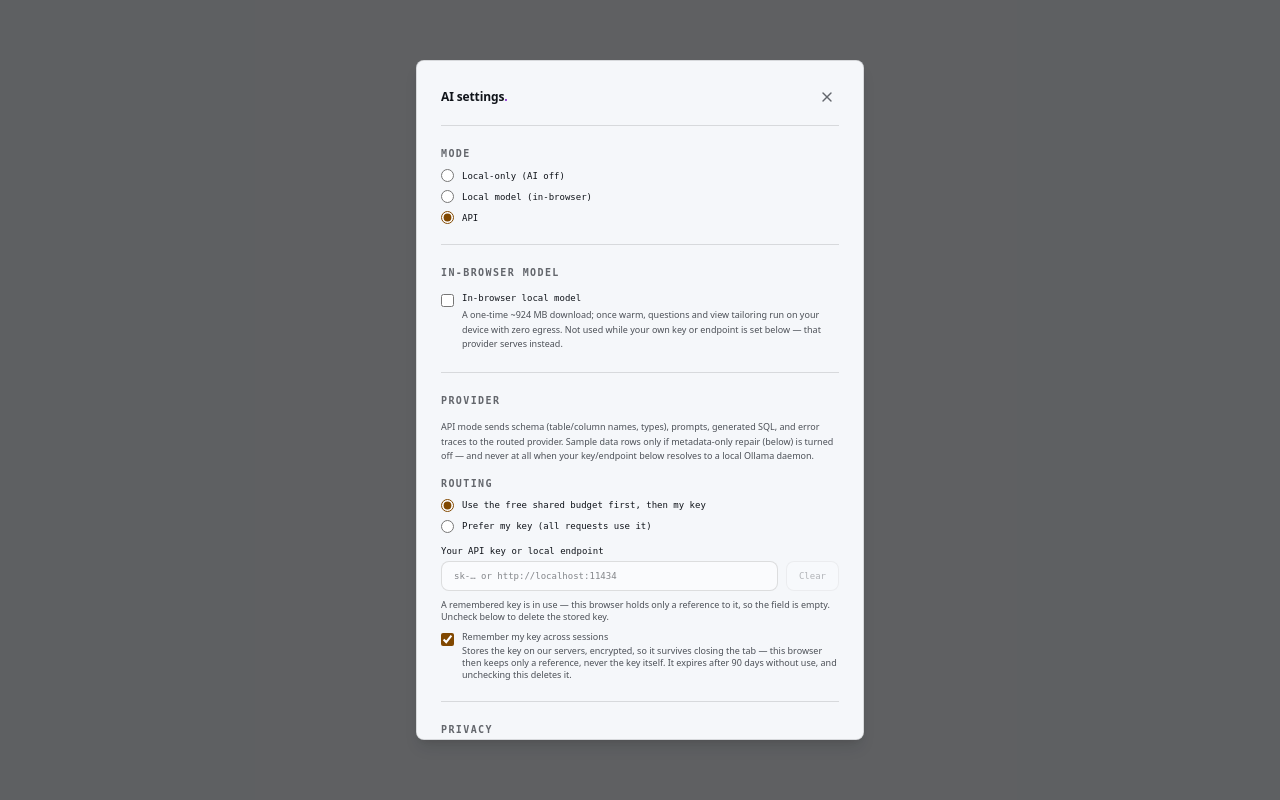
it: AISettingsPanel — "Remember my key" (D9 opt-in vault, 09-edge/03) › a failed delete keeps the reference and says the key is still stored
Step 1. Click the checkbox labelled "Remember my key across sessions" → (448, 639), box [441,633,454,646]
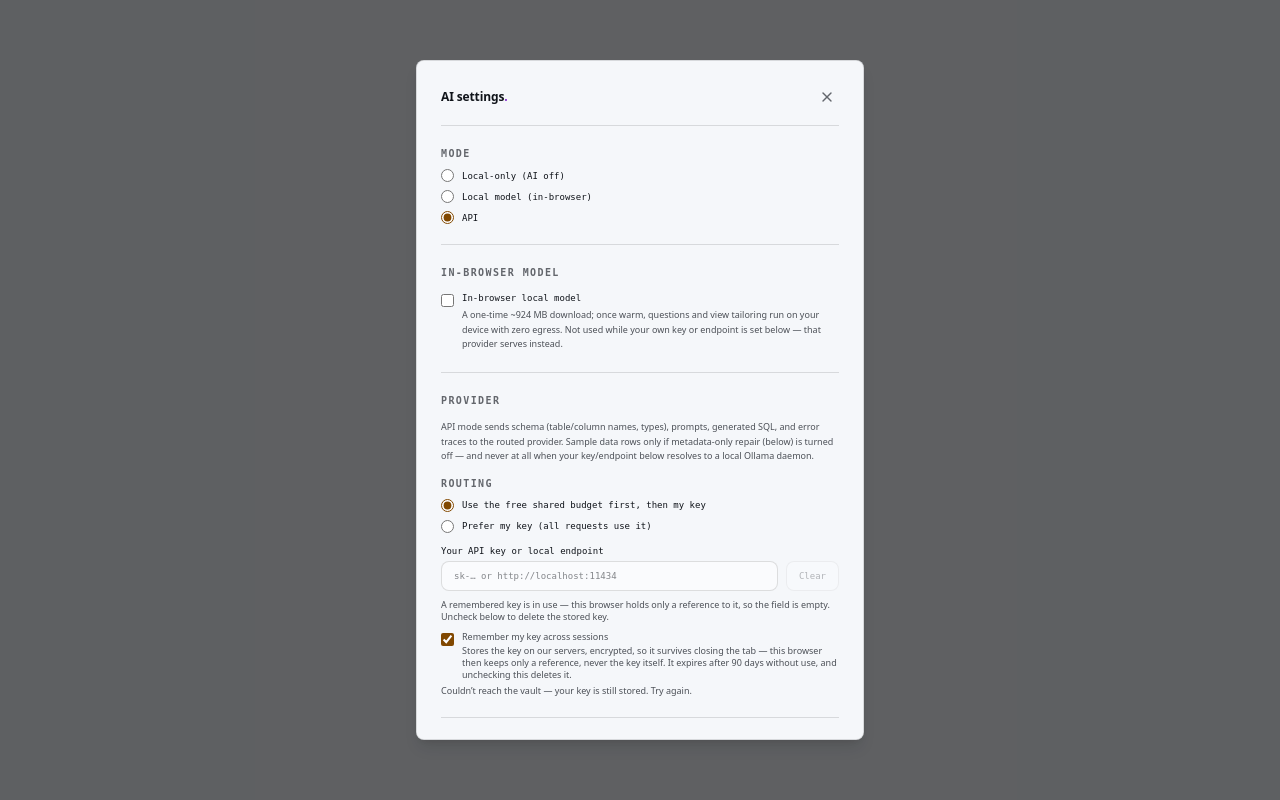
Now the text "Couldn’t reach the vault — your key is still stored. Try again." is shown, box [441,684,692,697]
